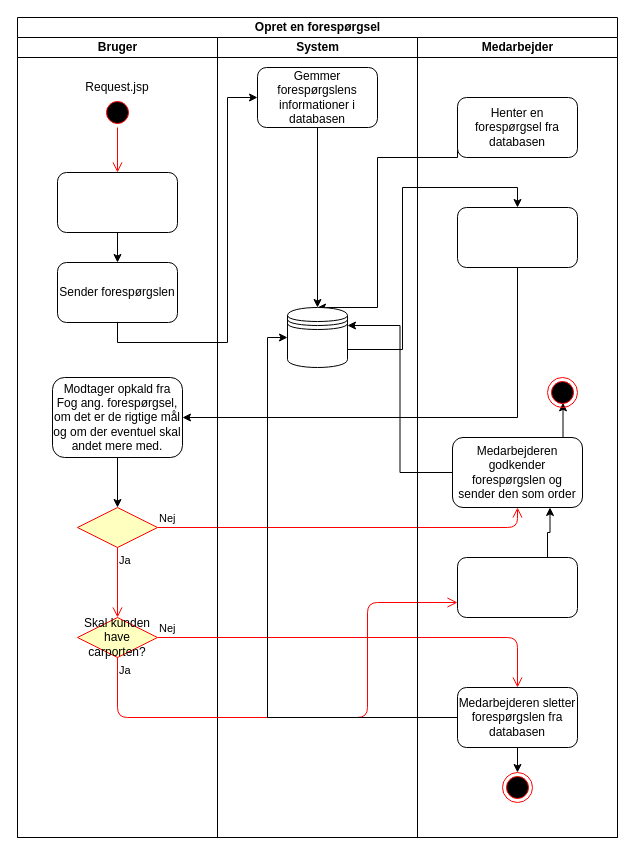
This 635x855 diagram has some shape labels left out. The shapes that lost their labels are listed below. From the top down, each one's centre as x and y in pixels, then its label:
the point at 117,202: indtaster påkrævet mål og information
the point at 517,237: Ringer pågældende kunde op
the point at 317,337: Database
the point at 117,527: Skal forespørgslen ændres?
the point at 517,587: Medarbejderen ændre og opdatere forespørgslen
